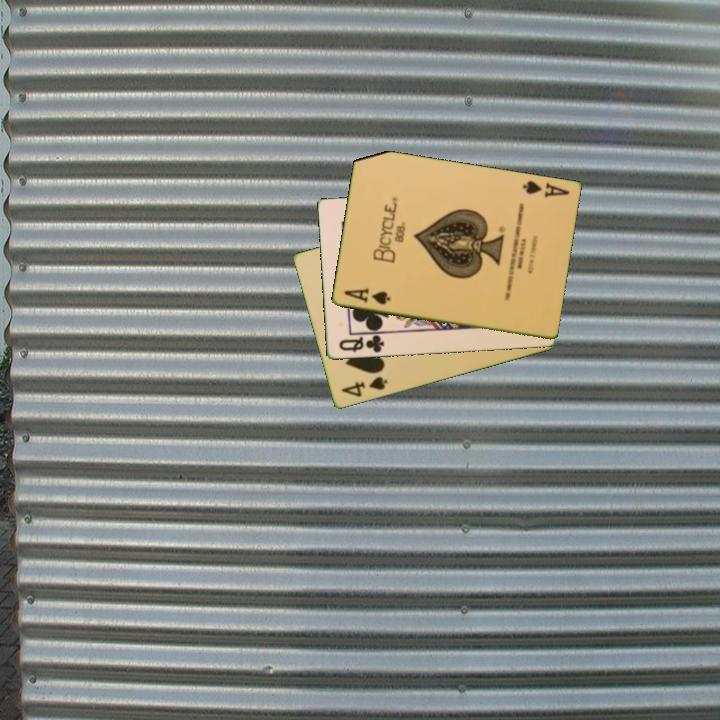4s: (337, 373, 390, 400)
As: (340, 284, 393, 308), (518, 177, 571, 201)
Qc: (335, 332, 387, 356)
